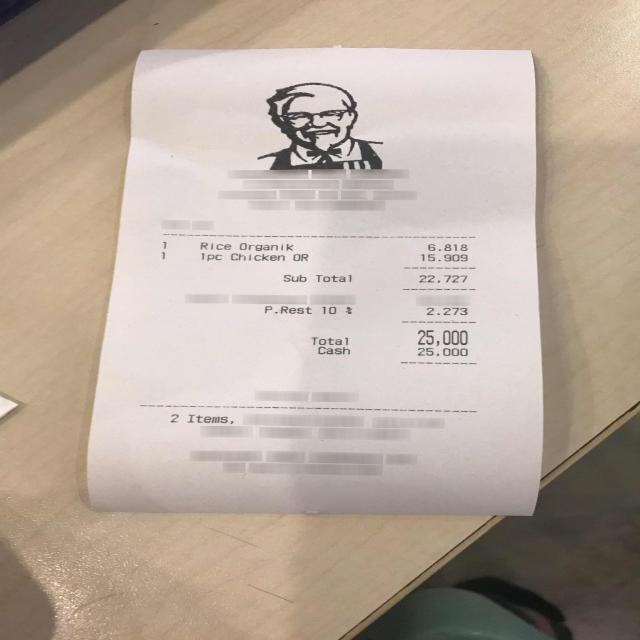kertas: (86, 47, 545, 515)
